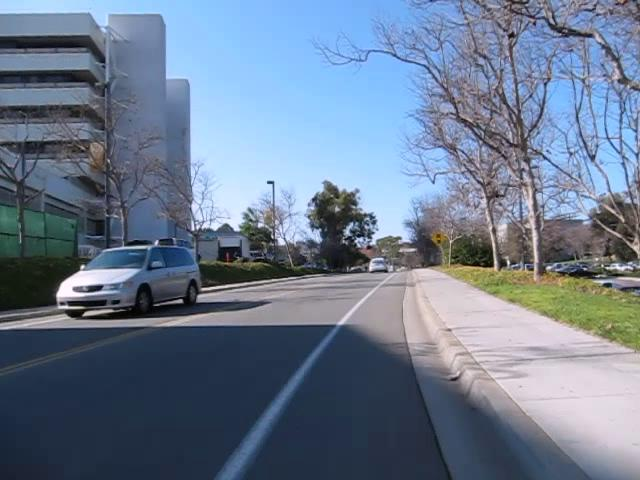signalAhead: (429, 229, 447, 247)
